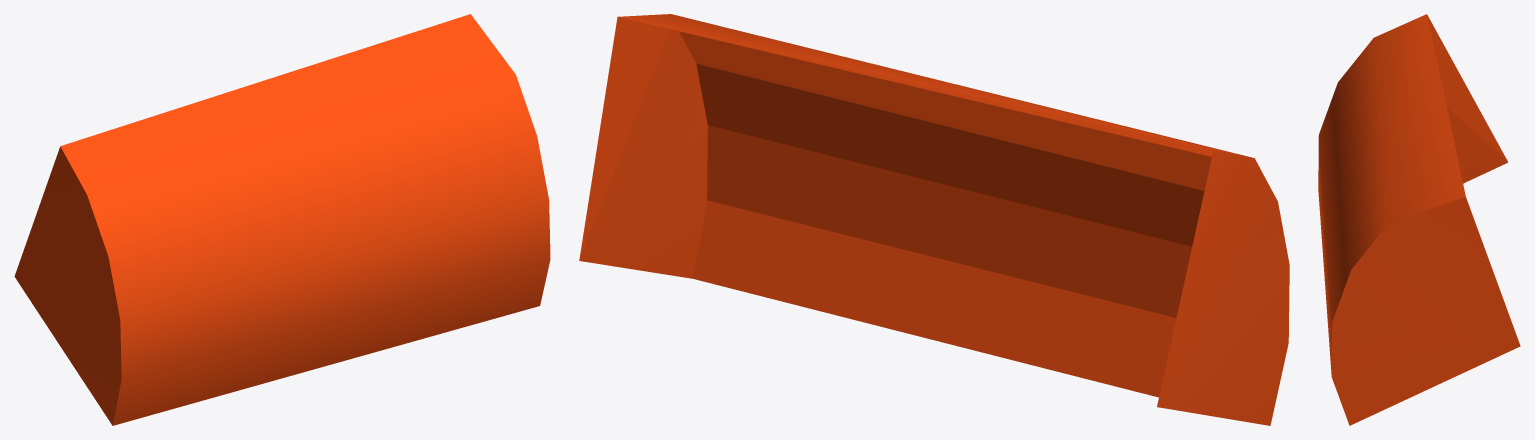
Rendered from Tanque2.fbx.
The picture shows the model from 3 angles, left to right: view 1: azimuth 30°, elevation 25°; view 2: azimuth 150°, elevation 25°; view 3: azimuth 270°, elevation 25°; orthographic projection. The views are drawn at different scales.
Visible parts, largest first — view 1: Tanque2; view 2: Tanque2; view 3: Tanque2.
Boxes of the visible parts, box(x1,y1,x2,y2) form: Tanque2: box(14, 14, 550, 425); Tanque2: box(579, 14, 1289, 425); Tanque2: box(1318, 14, 1520, 425).
Bounding box in the file's own units: 845 × 472 × 367.
